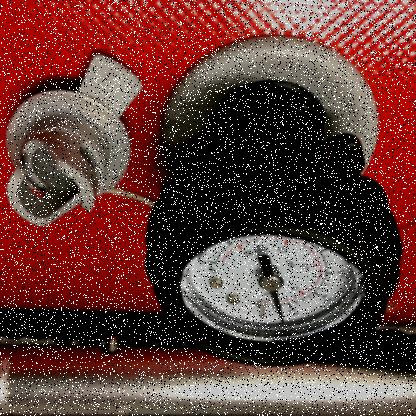needle: (270, 291, 285, 324)
